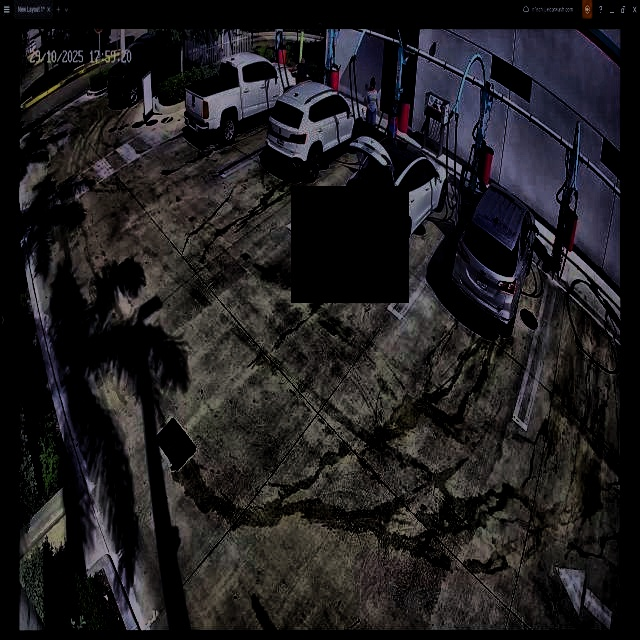Car: (458, 166, 537, 333), (347, 136, 448, 253), (266, 81, 366, 177)
